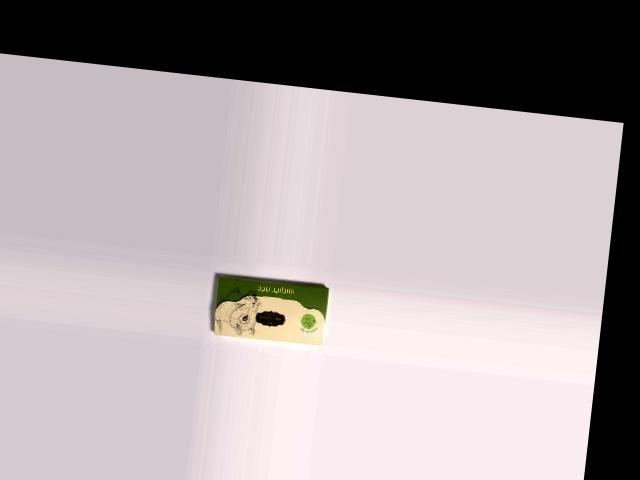chocolate: (210, 273, 330, 348)
